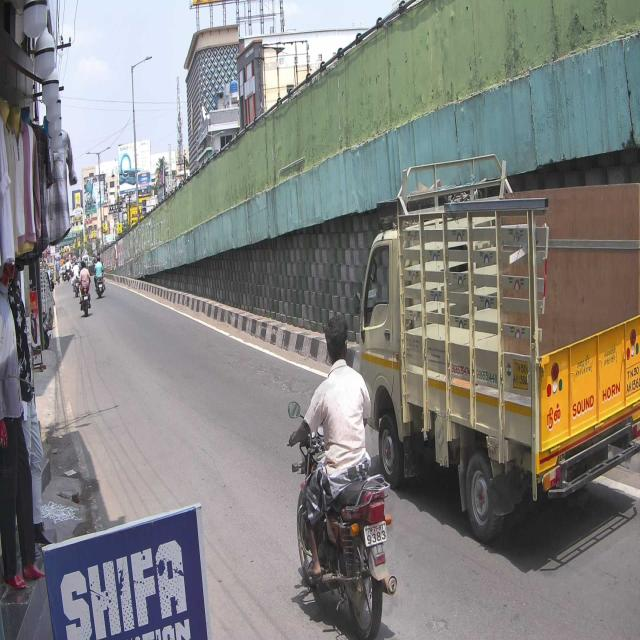single_rider: (286, 316, 401, 640)
